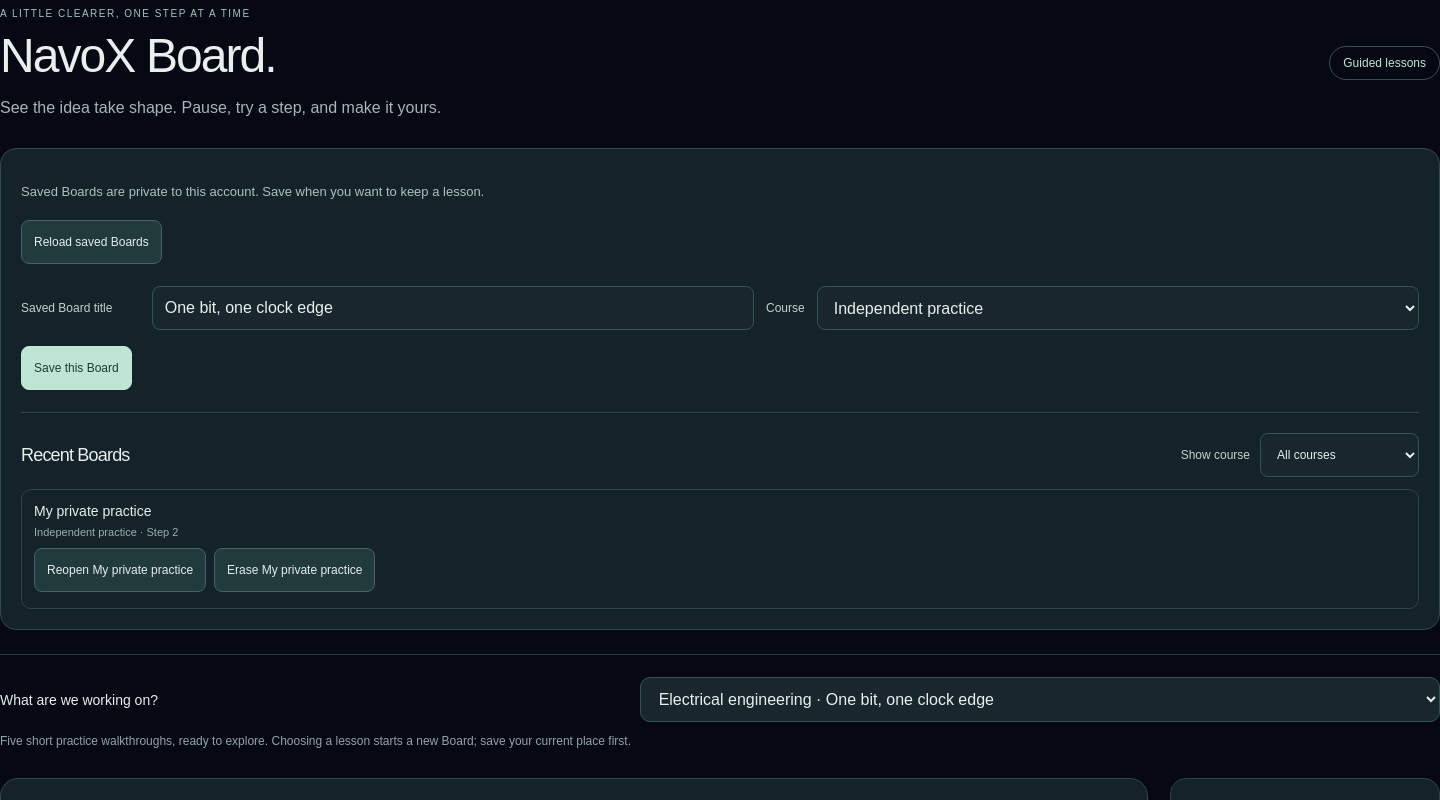
Scenario: saved Board privacy and delayed results › masks on tab hide and clears private progress if the returning account changed
What coordinates should you click on to do the following:
click the button "Reopen My private practice"
I would click on:
 (120, 570)
Its box is left=34, top=548, right=206, bottom=592.
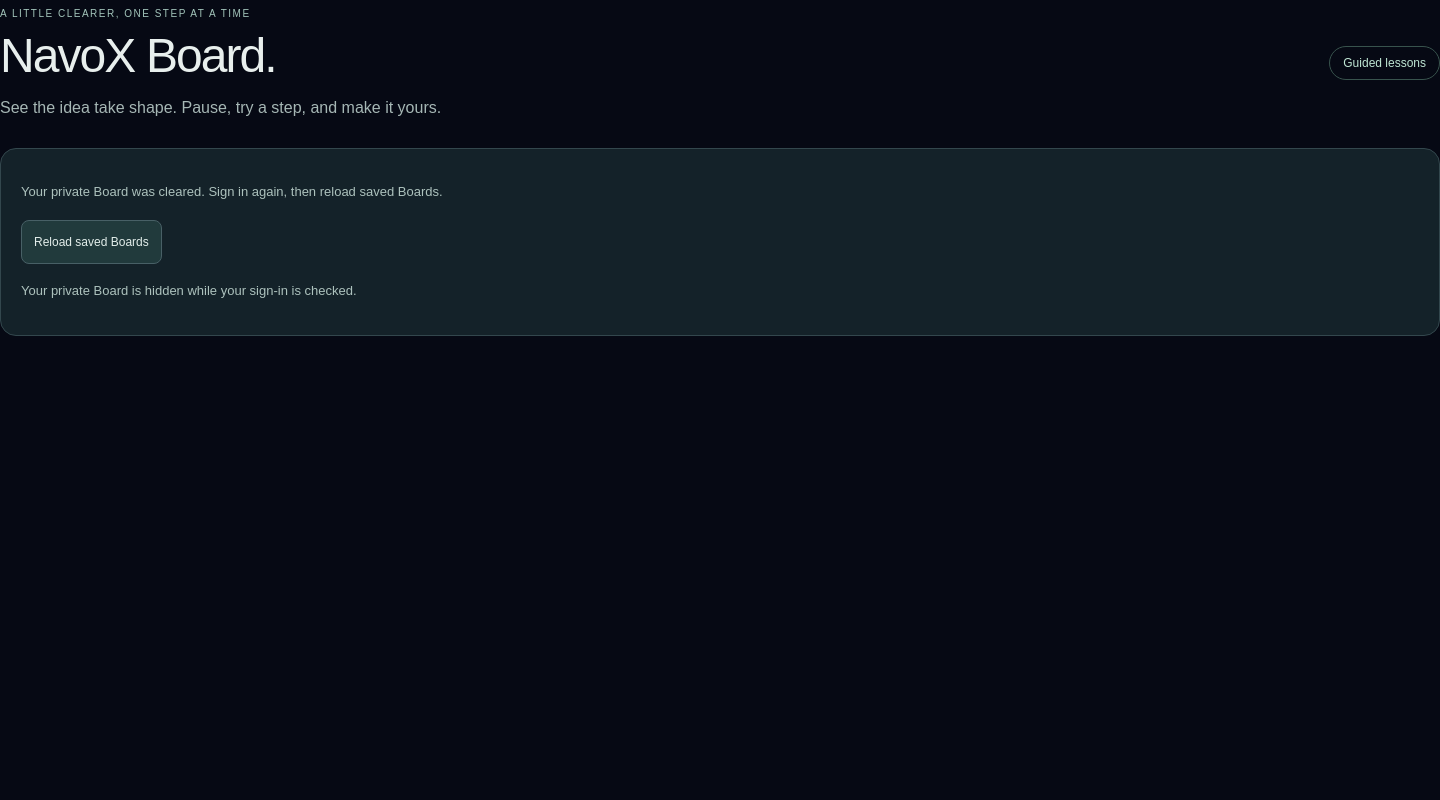
Expected: the text "My private practice" is gone
